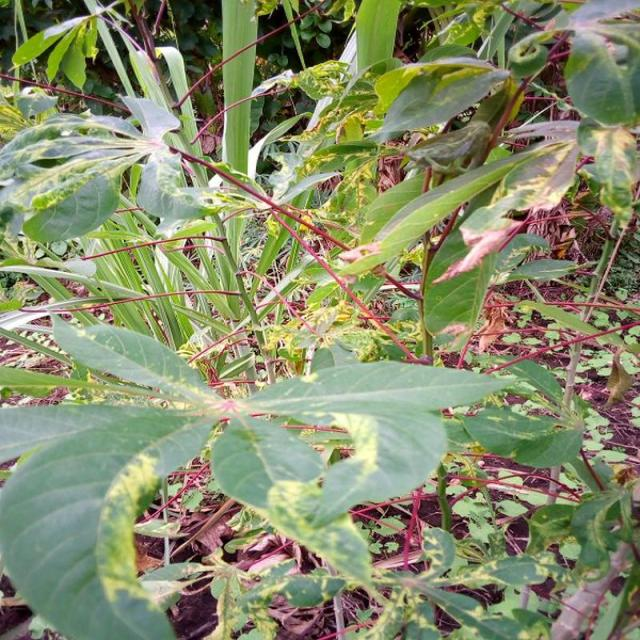cassava leaf: (0, 1, 638, 638), (0, 402, 216, 638)
